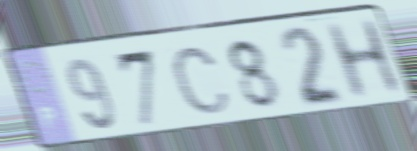2: (278, 23, 348, 113)
7: (110, 48, 160, 128)
8: (227, 36, 284, 111)
9: (64, 56, 117, 132)
C: (169, 44, 233, 117)
H: (320, 15, 407, 105)
